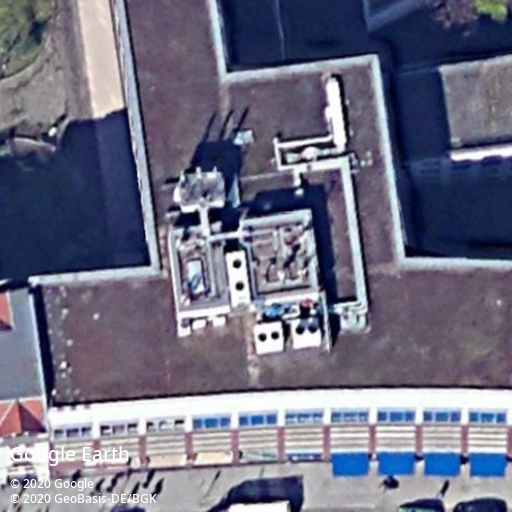Chiller: (225, 248, 250, 307), (252, 321, 284, 354), (290, 317, 322, 350)
